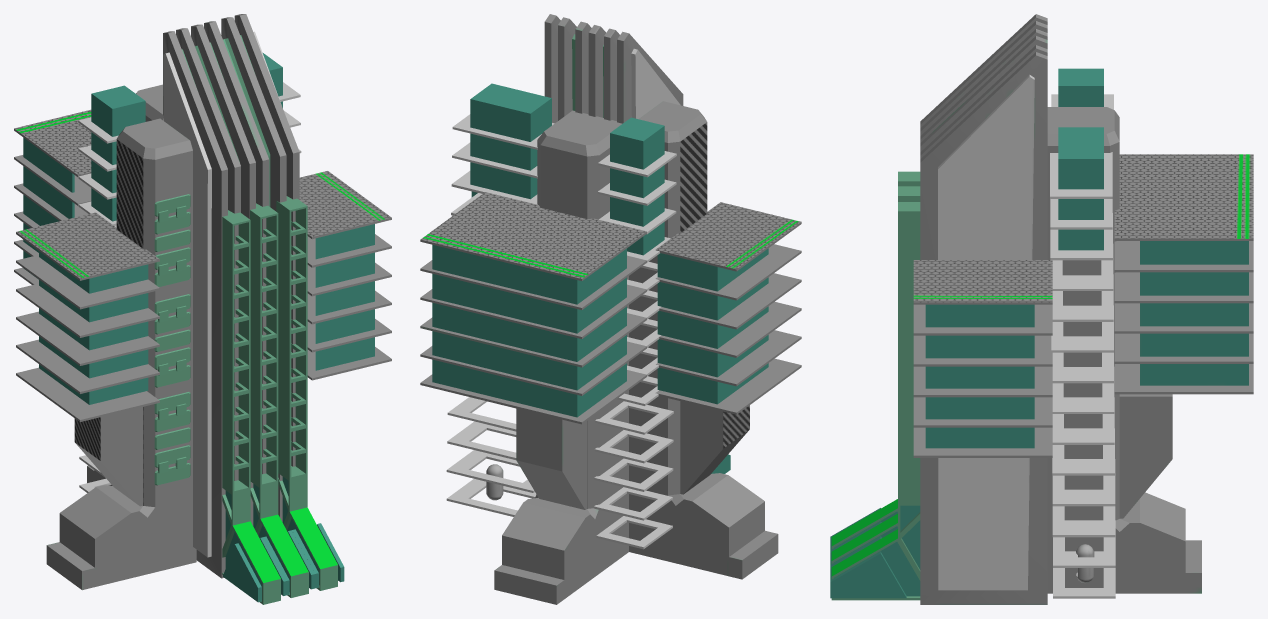
The model's file is SM_Building_05_SM_B5_B.fbx.
3 views of the same model, side by side, from view 1: azimuth 30°, elevation 25°; view 2: azimuth 150°, elevation 25°; view 3: azimuth 270°, elevation 25° (orthographic). The views are drawn at different scales.
Visible parts, largest first — view 1: SM_Building_05_SM_B5_B_LOD0; view 2: SM_Building_05_SM_B5_B_LOD0; view 3: SM_Building_05_SM_B5_B_LOD0.
Boxes of the visible parts, left/top/right/bottom form: SM_Building_05_SM_B5_B_LOD0: left=14, top=14, right=391, bottom=604; SM_Building_05_SM_B5_B_LOD0: left=420, top=14, right=801, bottom=604; SM_Building_05_SM_B5_B_LOD0: left=830, top=14, right=1253, bottom=604.
Bounding box in the file's own units: 3612 × 4120 × 5897.
